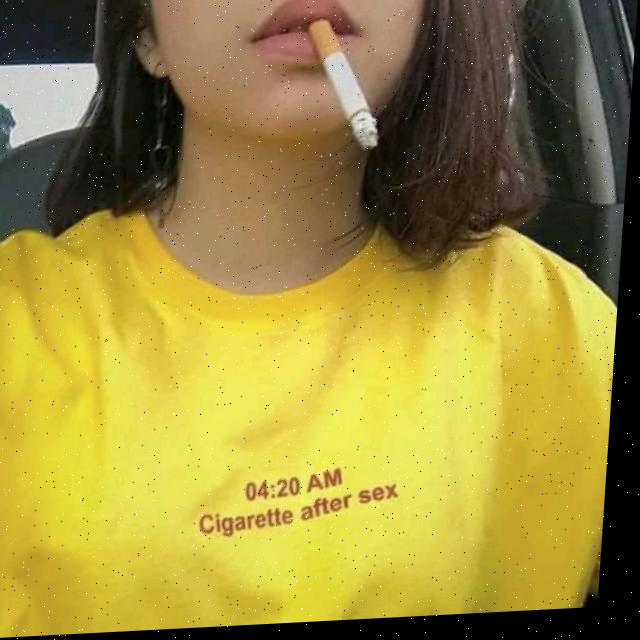cigarette: (302, 20, 388, 157)
